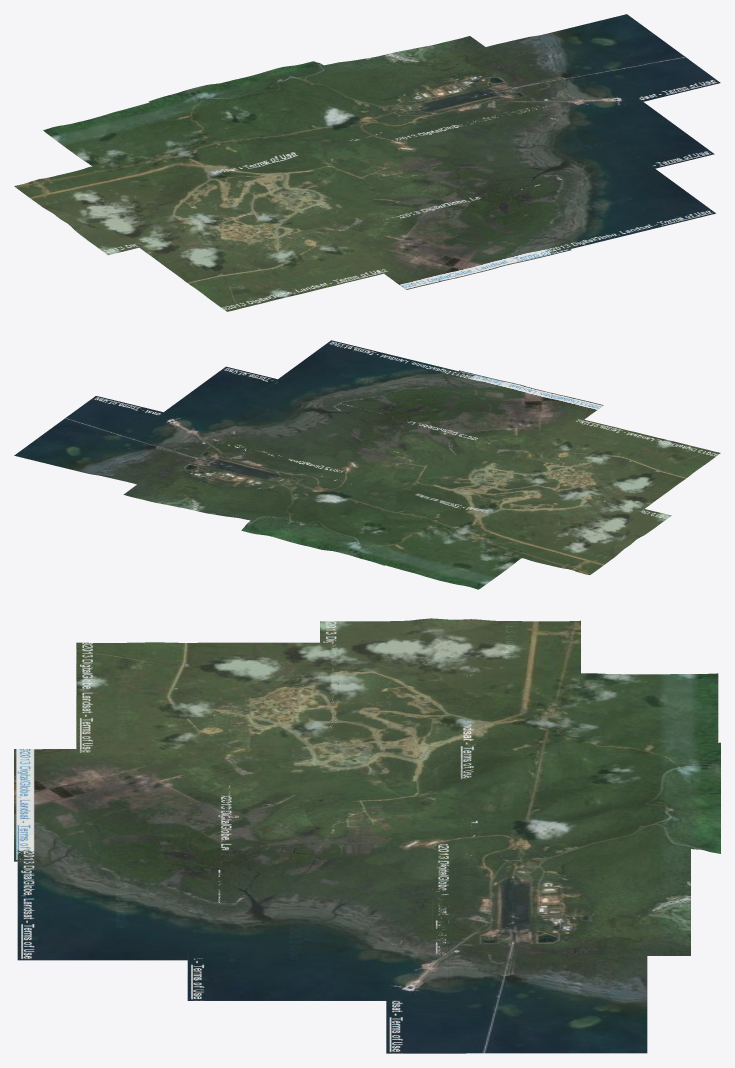
Rendered from sangatta1.fbx.
3 views of the same model, one above another, from view 1: azimuth 30°, elevation 25°; view 2: azimuth 150°, elevation 25°; view 3: azimuth 270°, elevation 25° (orthographic). The views are drawn at different scales.
Parts seen in each view (by area): view 1: Google_Earth_Terrain, Google_Earth_Terrain3, Google_Earth_Terrain1, Google_Earth_Terrain5, Google_Earth_Terrain6, Google_Earth_Terrain8, Google_Earth_Terrain4, Google_Earth_Terrain2, Google_Earth_Terrain7, Google_Earth_Terrain10, Google_Earth_Terrain9; view 2: Google_Earth_Terrain3, Google_Earth_Terrain1, Google_Earth_Terrain, Google_Earth_Terrain5, Google_Earth_Terrain6, Google_Earth_Terrain2, Google_Earth_Terrain8, Google_Earth_Terrain4, Google_Earth_Terrain7, Google_Earth_Terrain10, Google_Earth_Terrain9; view 3: Google_Earth_Terrain, Google_Earth_Terrain3, Google_Earth_Terrain6, Google_Earth_Terrain5, Google_Earth_Terrain1, Google_Earth_Terrain4, Google_Earth_Terrain8, Google_Earth_Terrain2, Google_Earth_Terrain7, Google_Earth_Terrain10, Google_Earth_Terrain9.
Part boxes in pixels (box(x1,y1,x2,y2)): Google_Earth_Terrain: box(133, 200, 391, 311); Google_Earth_Terrain3: box(458, 145, 715, 253); Google_Earth_Terrain1: box(14, 144, 268, 255); Google_Earth_Terrain5: box(462, 14, 720, 120); Google_Earth_Terrain6: box(307, 36, 558, 142); Google_Earth_Terrain8: box(314, 181, 571, 289); Google_Earth_Terrain4: box(458, 85, 714, 192); Google_Earth_Terrain2: box(43, 86, 301, 199); Google_Earth_Terrain7: box(308, 111, 565, 220); Google_Earth_Terrain10: box(149, 61, 401, 167); Google_Earth_Terrain9: box(187, 138, 435, 246); Google_Earth_Terrain3: box(249, 340, 474, 434); Google_Earth_Terrain1: box(449, 481, 671, 574); Google_Earth_Terrain: box(495, 418, 720, 512); Google_Earth_Terrain5: box(14, 396, 235, 489); Google_Earth_Terrain6: box(123, 436, 345, 525); Google_Earth_Terrain2: box(335, 492, 557, 589); Google_Earth_Terrain8: box(382, 370, 603, 462); Google_Earth_Terrain4: box(145, 366, 367, 460); Google_Earth_Terrain7: box(256, 402, 479, 494); Google_Earth_Terrain10: box(241, 473, 459, 565); Google_Earth_Terrain9: box(363, 430, 585, 524); Google_Earth_Terrain: box(76, 642, 338, 754); Google_Earth_Terrain3: box(17, 847, 279, 960); Google_Earth_Terrain6: box(432, 834, 690, 956); Google_Earth_Terrain5: box(386, 940, 647, 1053); Google_Earth_Terrain1: box(320, 618, 580, 730); Google_Earth_Terrain4: box(187, 888, 448, 1000); Google_Earth_Terrain8: box(14, 747, 271, 861); Google_Earth_Terrain2: box(457, 673, 718, 782); Google_Earth_Terrain7: box(215, 791, 478, 906); Google_Earth_Terrain10: box(461, 738, 720, 857); Google_Earth_Terrain9: box(225, 709, 487, 819).
Bounding box in the file's own units: 305337 × 4888 × 211447.
